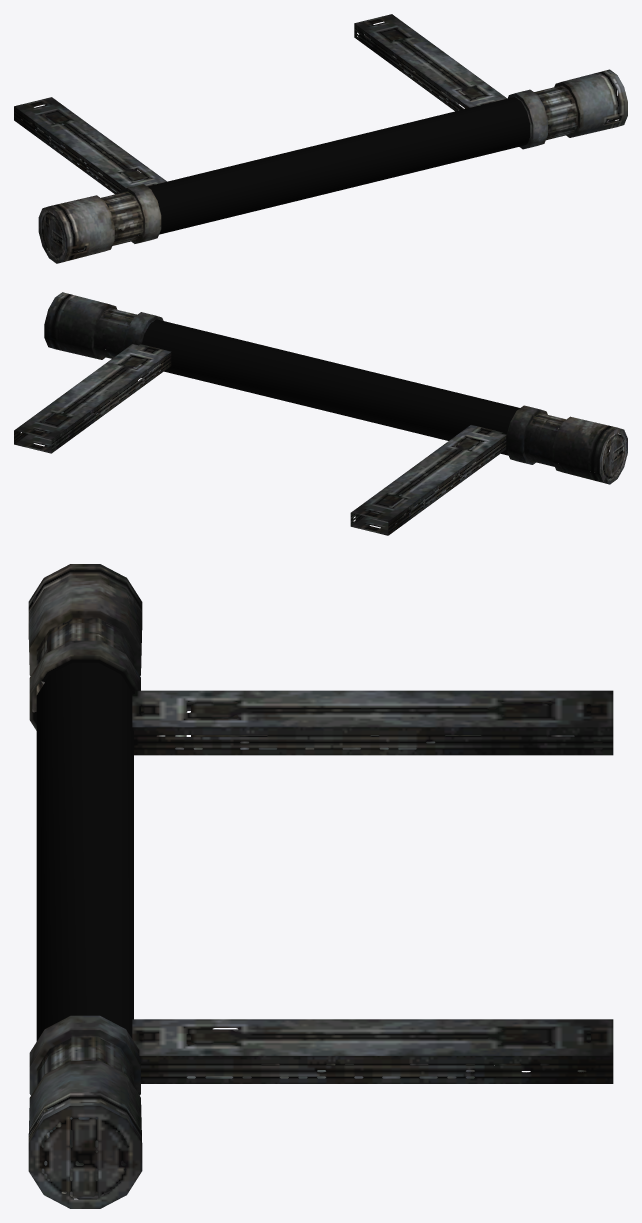
The model's file is fluorescent_tube_slidedoor_medium.dae.
3 renders of one model, top to bottom at view 1: azimuth 30°, elevation 25°; view 2: azimuth 150°, elevation 25°; view 3: azimuth 270°, elevation 25°, orthographic. The views are drawn at different scales.
Parts seen in each view (by area): view 1: Mesh__2_; view 2: Mesh__2_; view 3: Mesh__2_.
Part boxes in pixels (x1=…): Mesh__2_: x1=14, y1=14, x2=627, y2=263; Mesh__2_: x1=14, y1=292, x2=627, y2=535; Mesh__2_: x1=28, y1=564, x2=613, y2=1208.
Bounding box in the file's own units: 1.11 × 0.098 × 0.5046.
